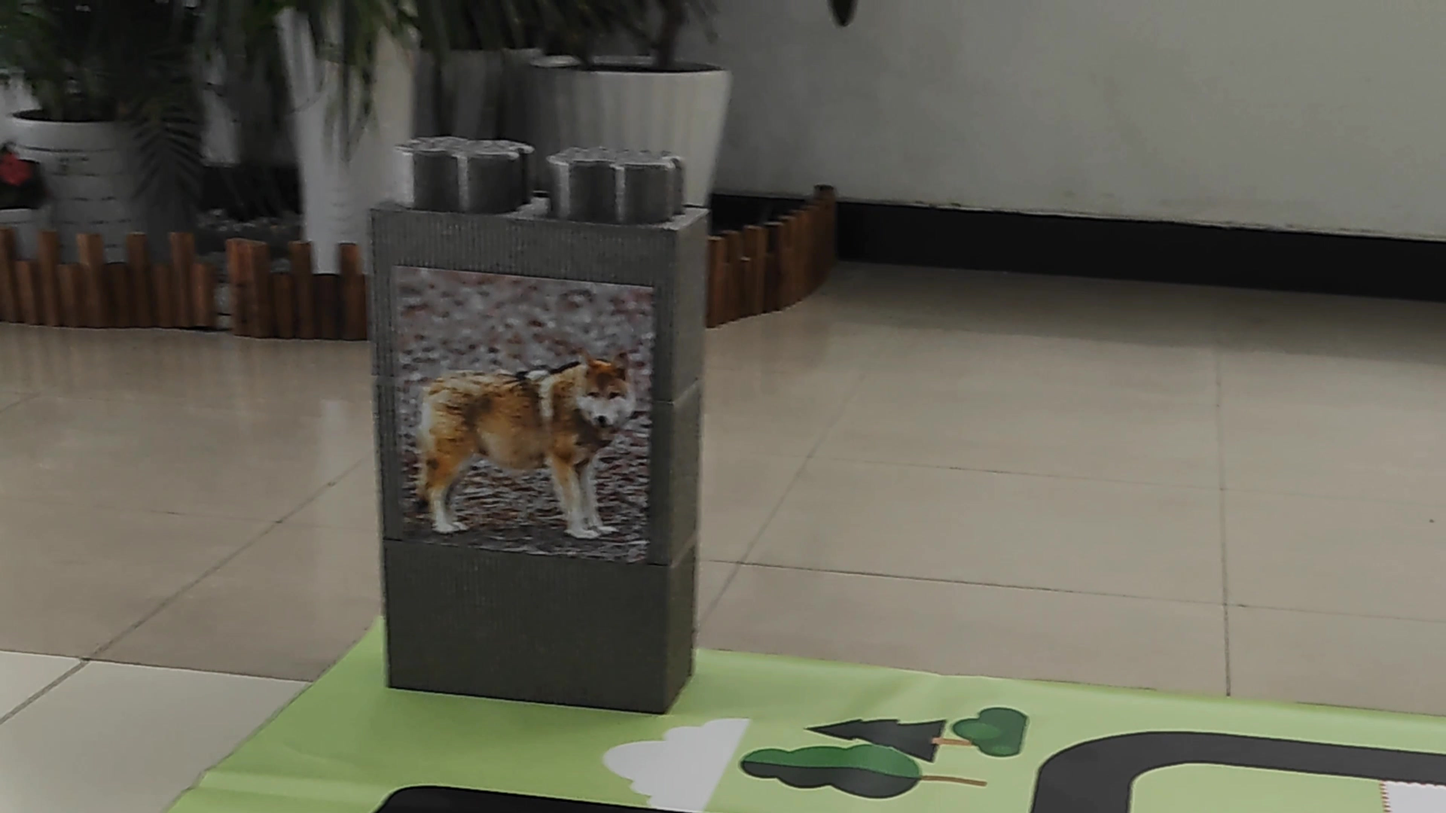wolf: (410, 298, 653, 548)
